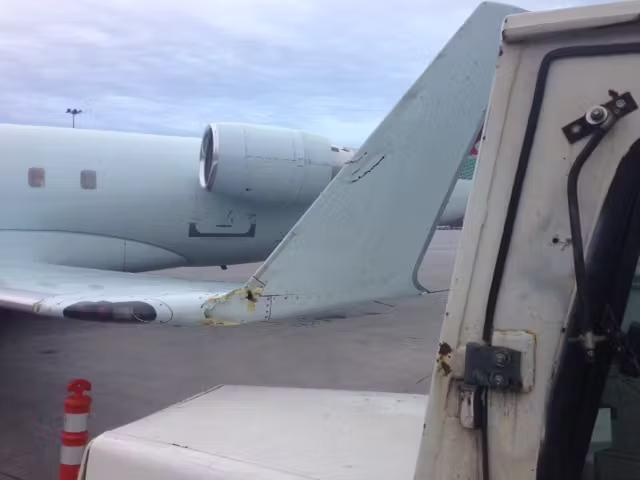Fuselage_damage: (196, 283, 297, 348)
